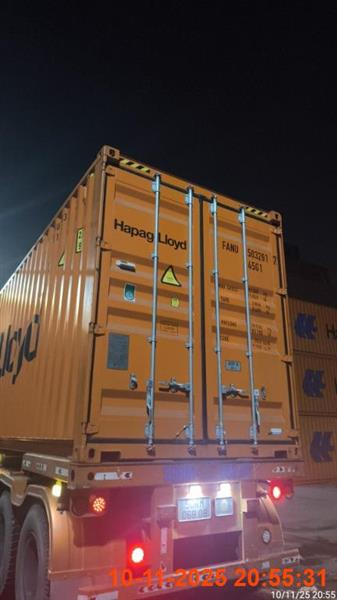broken: (0, 146, 305, 599)
